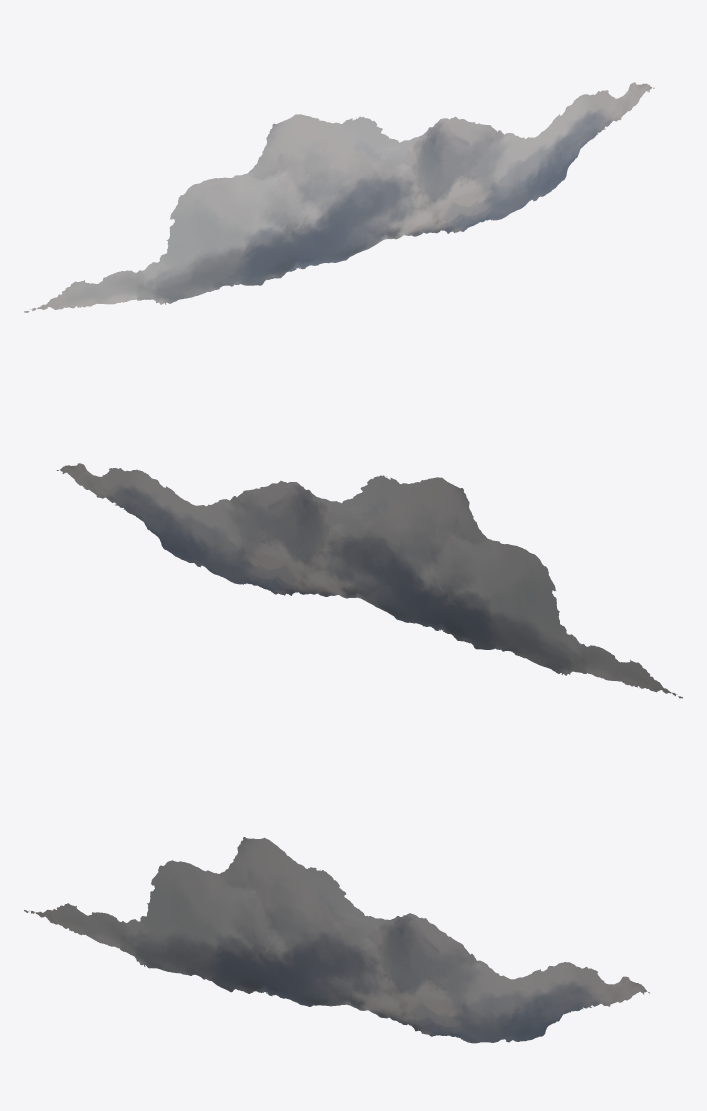
Rendered from cloudA.fbx.
The picture shows the model from 3 angles, top to bottom: view 1: azimuth 30°, elevation 25°; view 2: azimuth 150°, elevation 25°; view 3: azimuth 330°, elevation 25°; orthographic projection.
Visible parts, largest first — view 1: cloudA; view 2: cloudA; view 3: cloudA.
Part boxes in pixels (x1=…): cloudA: x1=24, y1=82, x2=654, y2=312; cloudA: x1=56, y1=463, x2=682, y2=698; cloudA: x1=24, y1=837, x2=649, y2=1043.
Size of the model in its own units: 726 by 286 by 35.31.
Materials: 1 (1 with a texture image).
